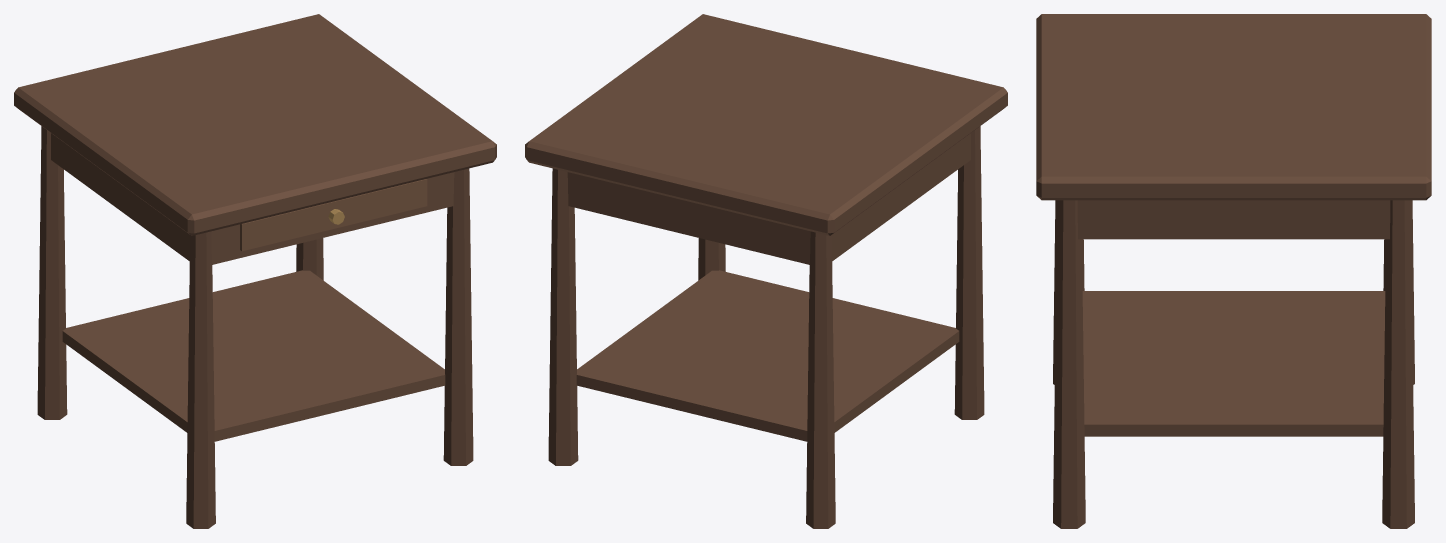
The model's file is side_table.glb.
The picture shows the model from 3 angles, left to right: view 1: azimuth 30°, elevation 25°; view 2: azimuth 150°, elevation 25°; view 3: azimuth 270°, elevation 25°; orthographic projection. The views are drawn at different scales.
Parts seen in each view (by area): view 1: side_table; view 2: side_table; view 3: side_table.
Part boxes in pixels (box(x1,y1,x2,y2)): side_table: box(14, 14, 496, 528); side_table: box(525, 14, 1007, 528); side_table: box(1036, 14, 1431, 528).
Size of the model in its own units: 0.6 by 0.6 by 0.6.
